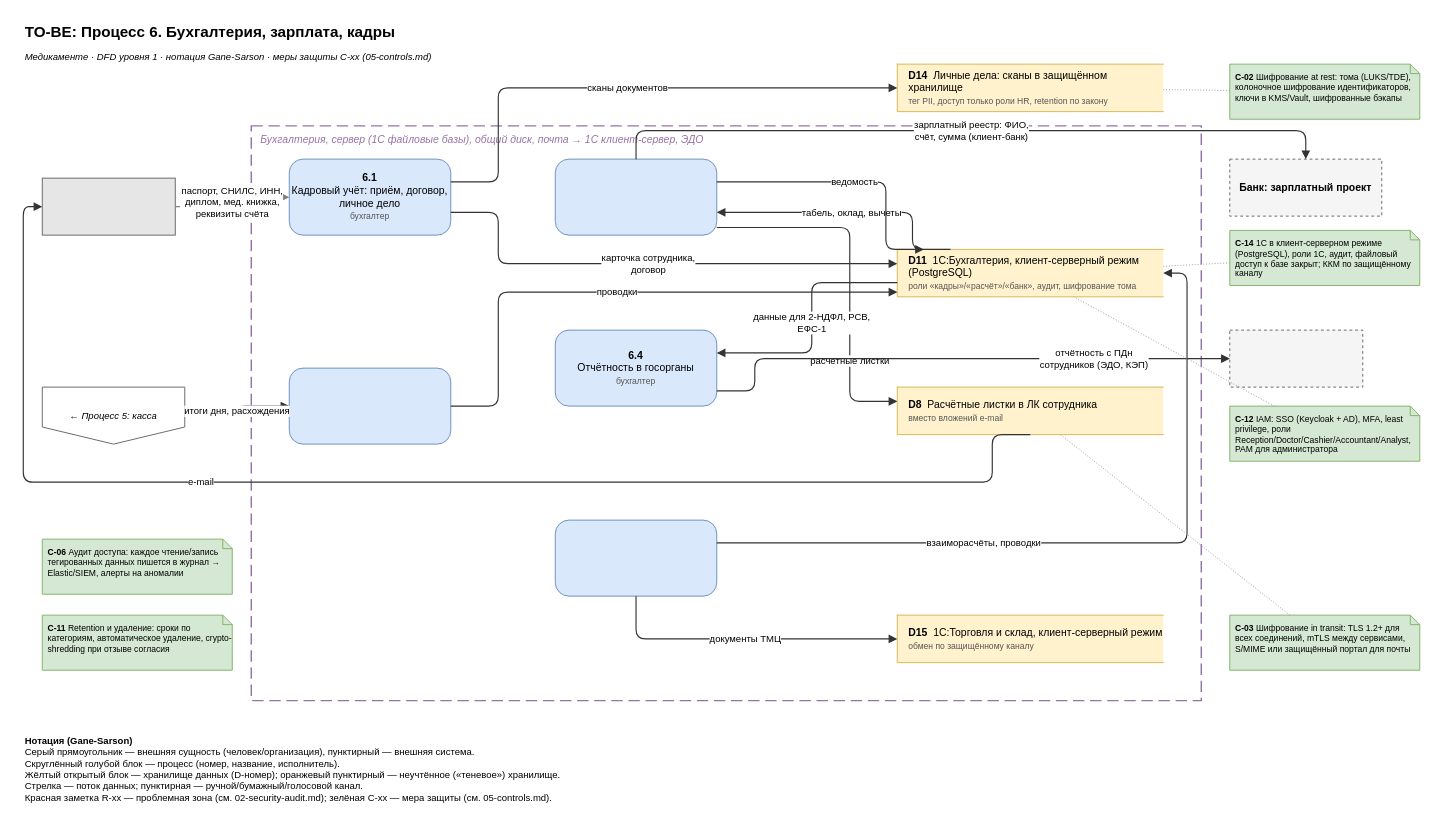
Image size: 1437x830. Some labels were removed from this diagram. The centre of each missing label's shape, as x and y in pixels:
"6.2 Процессинг платежей и сверка бухгалтер" belongs at pixel 369 405.
"6.3 Начисление и выплата зарплаты бухгалтер" belongs at pixel 635 196.
"6.5 Обмен с 1С:Торговля и склад (OLE) автоматически" belongs at pixel 635 557.
"Сотрудник субъект ПДн" belongs at pixel 108 206.
"ФНС, СФР отчётность" belongs at pixel 1296 358.
